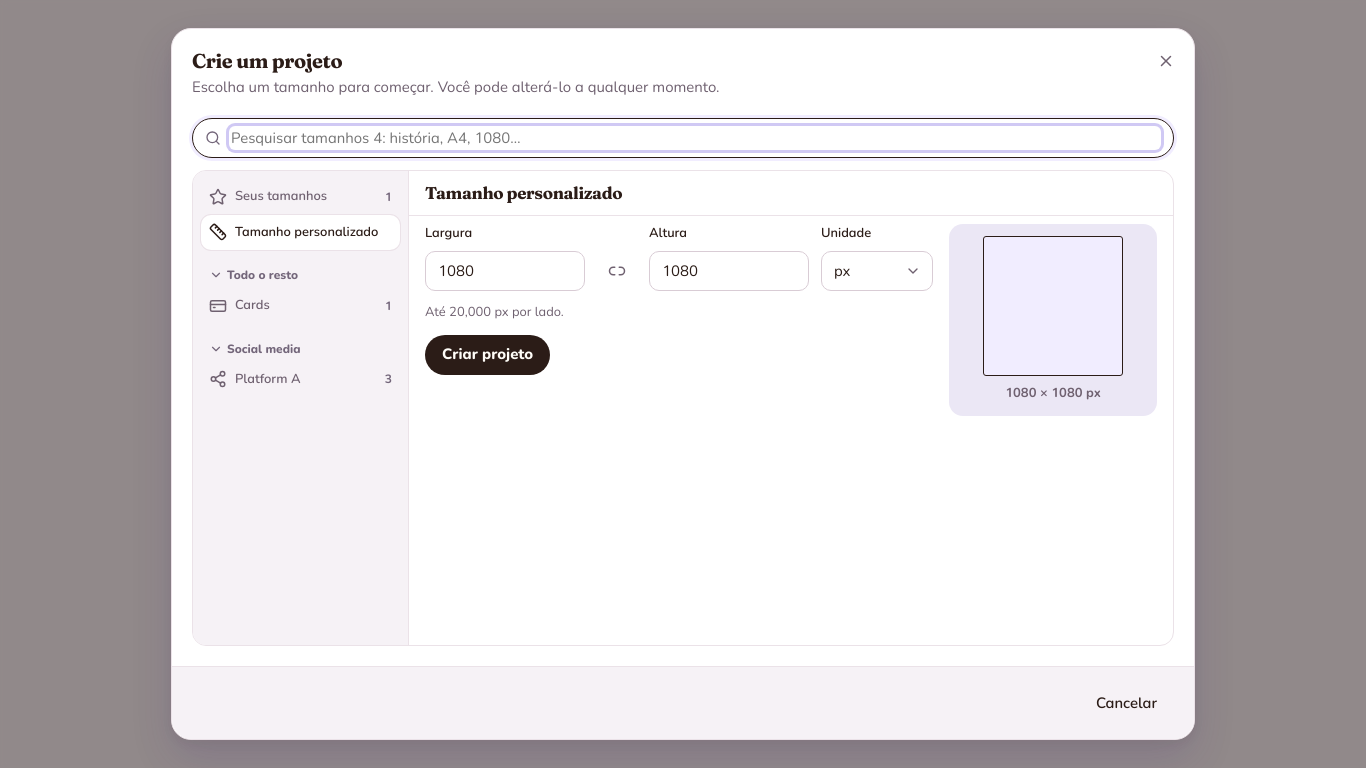
Test: Create a design dialog › shows the custom size as it is typed, and the limit once
The image size is (1366, 768).
Check: the text "Até 20,000 px por lado." is shown, box [425,303,564,323]
Replace the text in the field labelled "Largura" with "300" at (505, 271), box [438,252,572,290]
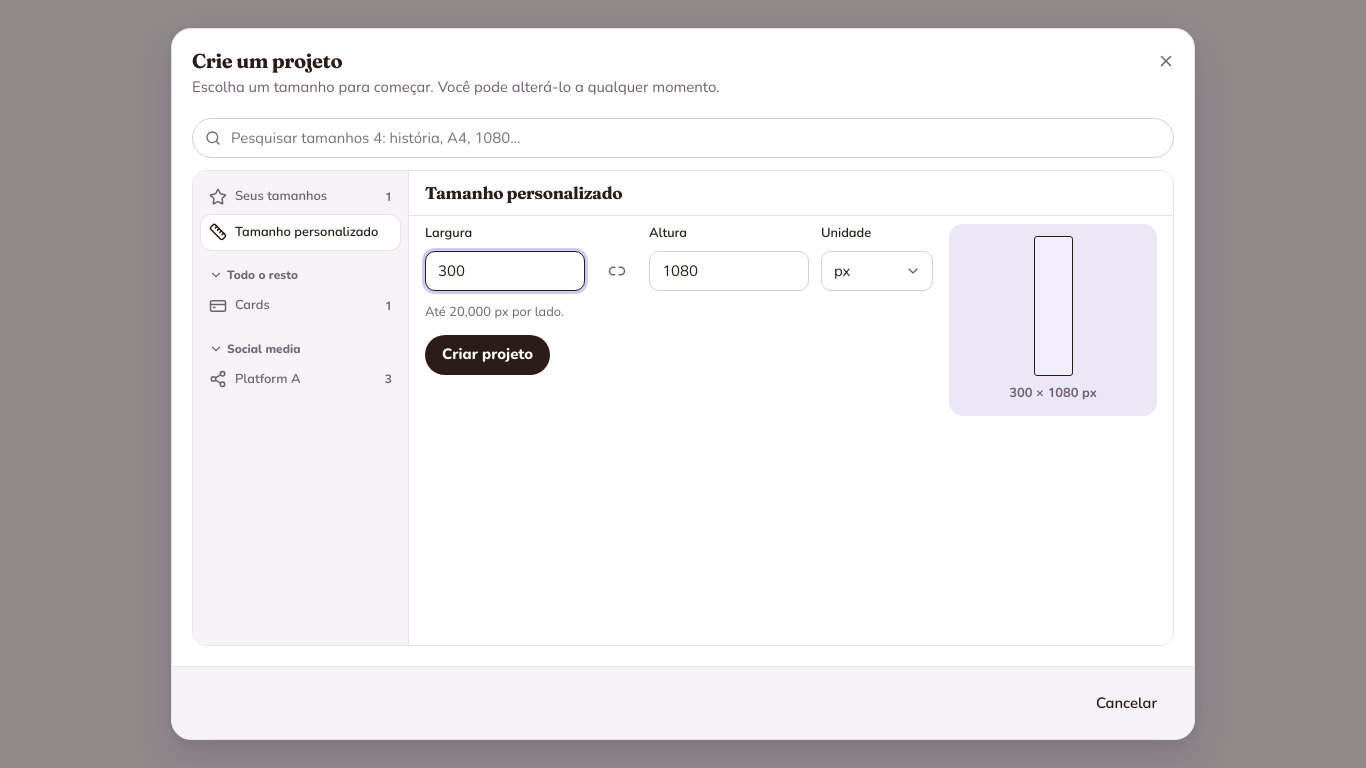
Check: the element named "Visualização" reads "300 × 1080 px", box [1009,384,1097,402]
Clear the field labelled "Largura" at (505, 271), box [438,252,572,290]
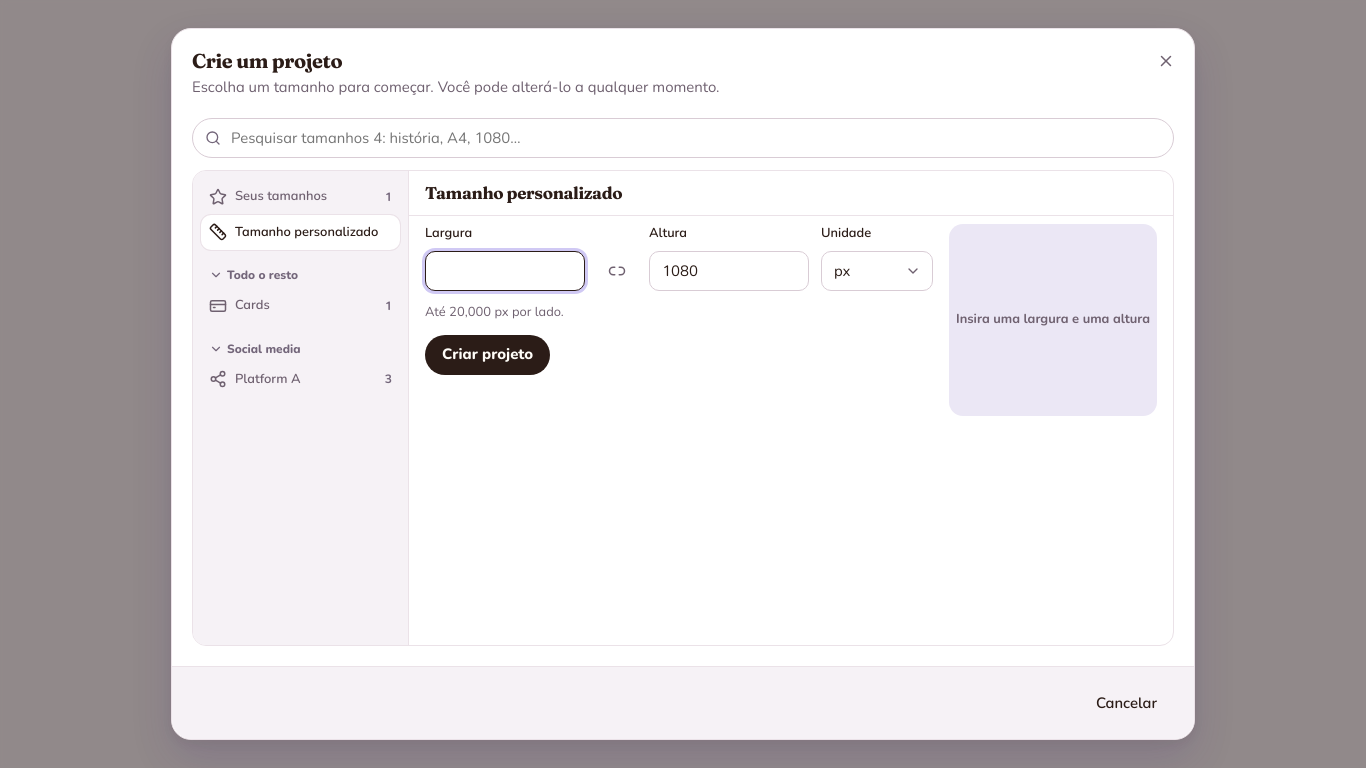
Check: the element named "Visualização" reads "Insira uma largura e uma altura", box [956,310,1150,328]
Select "in" in the dropdown labelled "Unidade" at (877, 271), box [821,251,933,291]
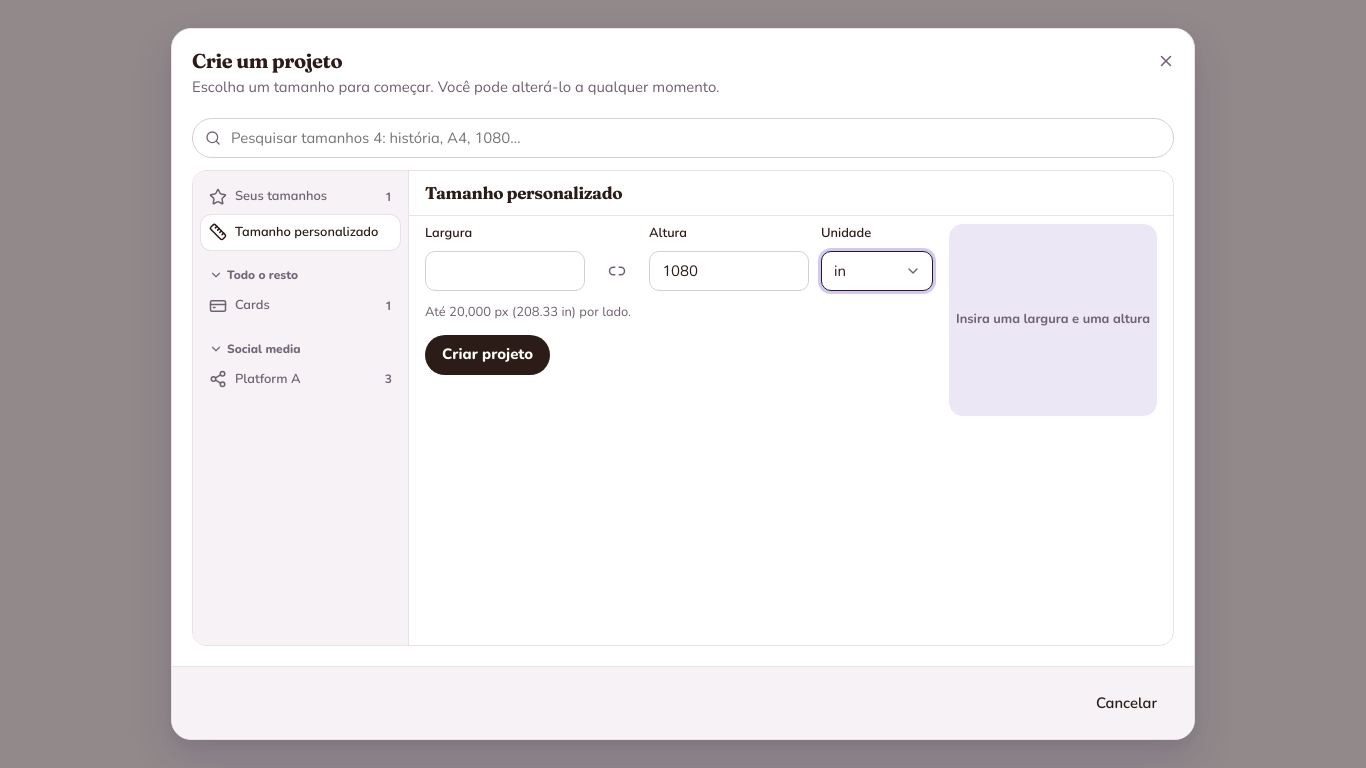
Check: the text "Até 20,000 px (208.33 in) por lado." is shown, box [425,303,631,323]
